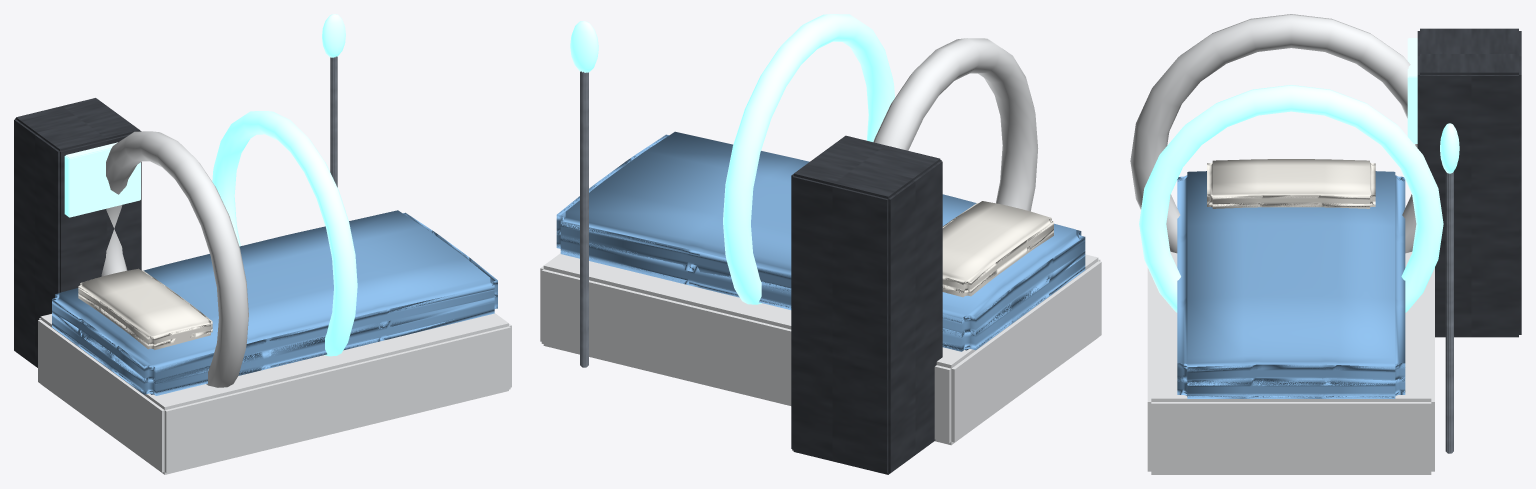
File: fac_medbay.glb
The picture shows the model from 3 angles, left to right: view 1: azimuth 30°, elevation 25°; view 2: azimuth 150°, elevation 25°; view 3: azimuth 270°, elevation 25°; orthographic projection. The views are drawn at different scales.
Parts seen in each view (by area): view 1: fac_medbay; view 2: fac_medbay; view 3: fac_medbay.
Part boxes in pixels (x1,y1,x2,y2): fac_medbay: (14,14,511,474); fac_medbay: (540,14,1101,474); fac_medbay: (1130,14,1521,474).
Bounding box in the file's own units: 1.86 × 1.47 × 1.58.
Materials: 6 (2 with a texture image).
